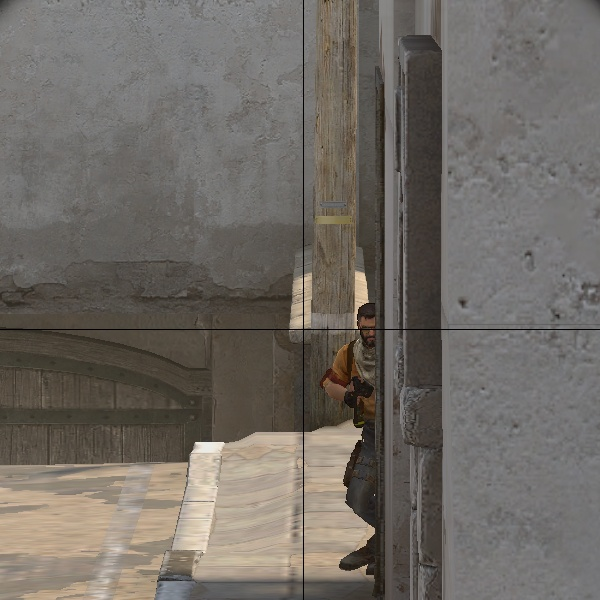t_body: (314, 295, 383, 581)
t_head: (346, 301, 386, 354)
